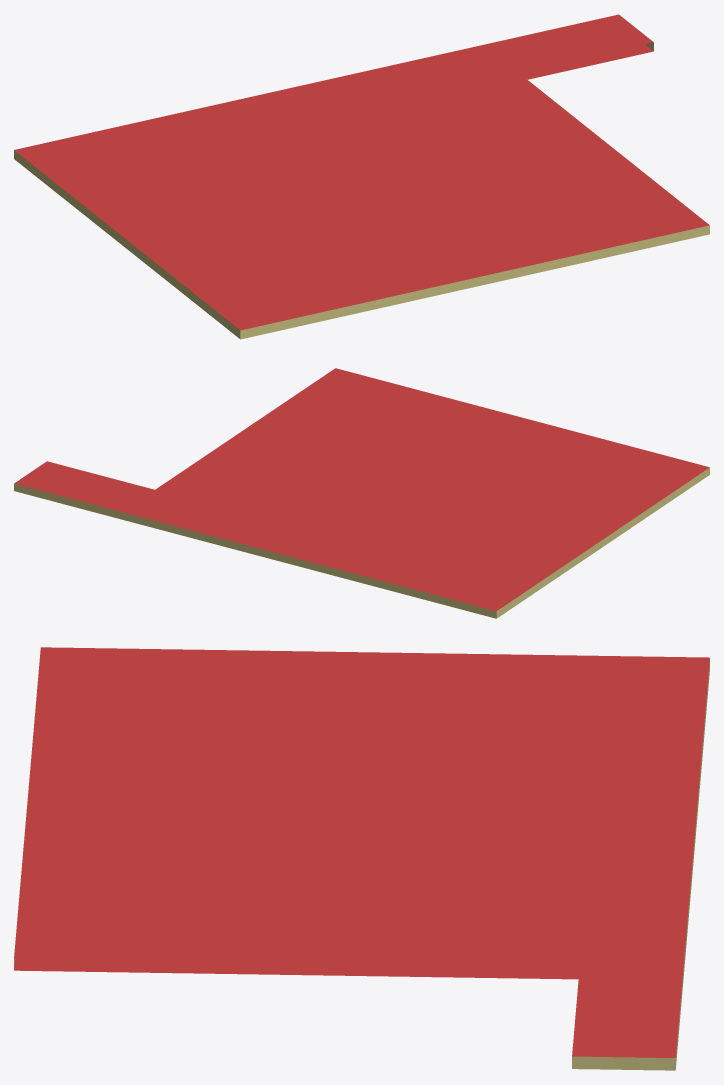
3 views of the same model, one above another, from view 1: azimuth 30°, elevation 25°; view 2: azimuth 150°, elevation 25°; view 3: azimuth 270°, elevation 25° (orthographic). The views are drawn at different scales.
Size of the model in its own units: 7.03 by 5.03 by 0.1.
